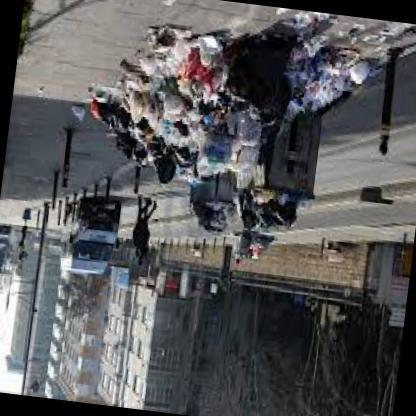Garbage: (155, 30, 270, 144), (153, 79, 245, 192), (253, 44, 370, 118), (96, 88, 186, 164), (233, 188, 302, 234), (189, 200, 235, 237)
